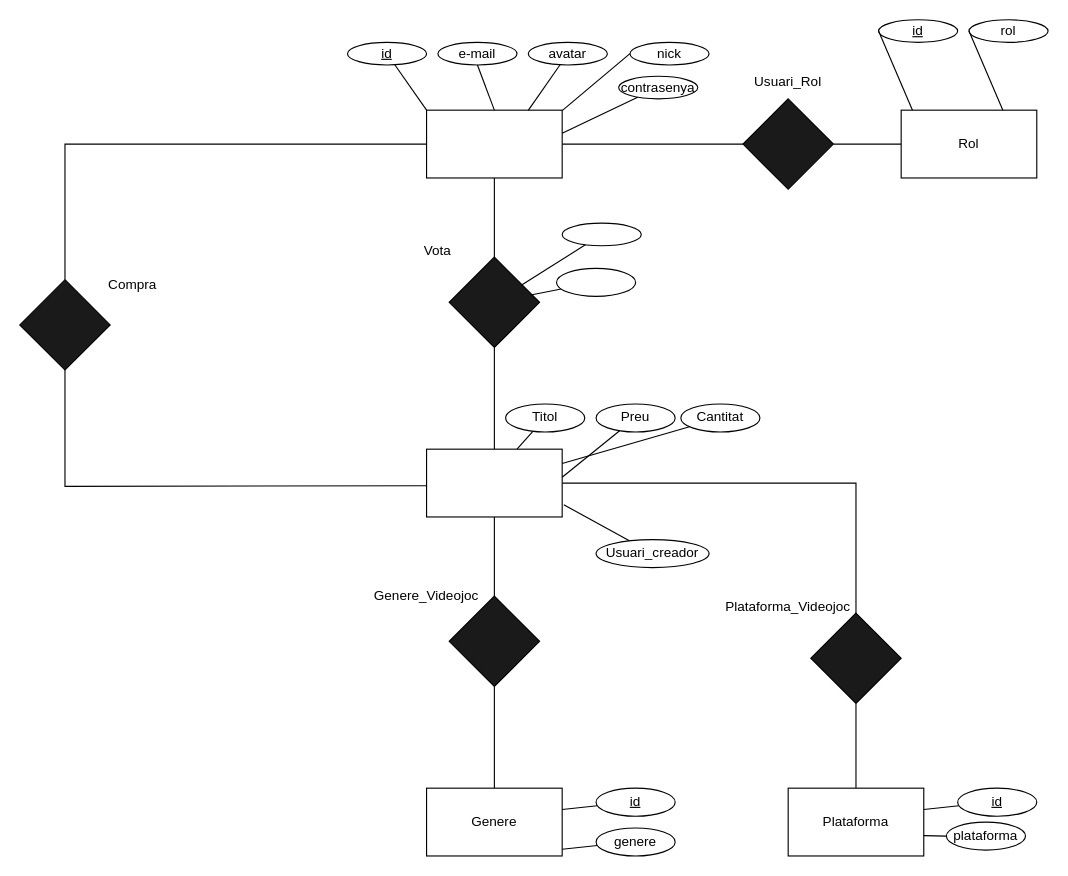
Image size: 1068x876. Some labels were removed from this diagram. Here are the shapes that lost their labels. From the top down, the box of each, then its label:
(425, 109, 562, 178): usuari
(561, 222, 641, 246): puntuacio
(555, 267, 636, 296): comentari
(425, 448, 562, 517): Videojoc
